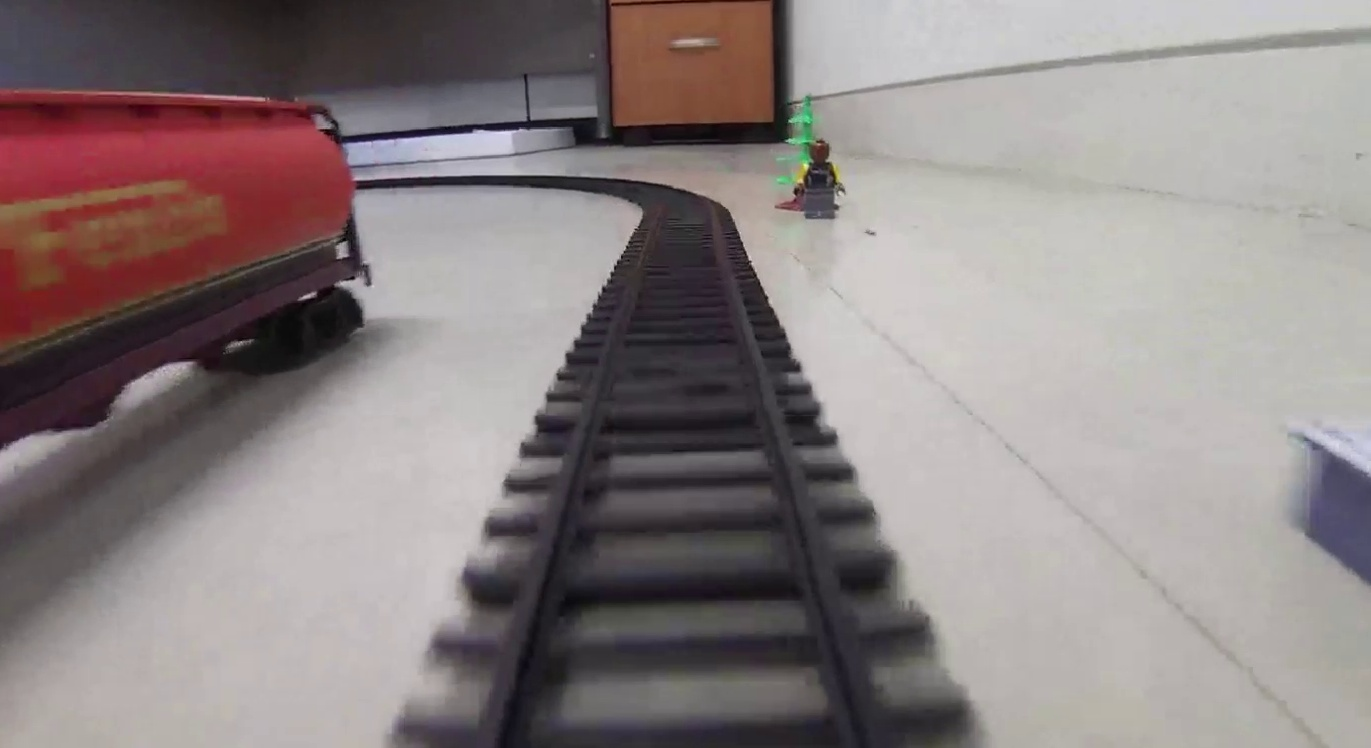people: (804, 137, 844, 220)
